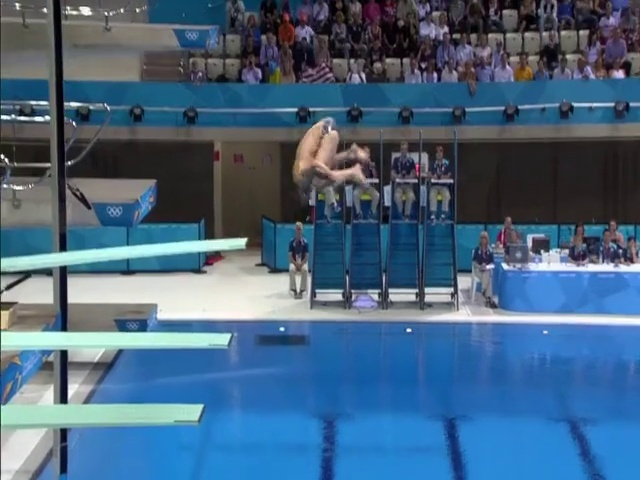diver: (282, 115, 370, 197)
